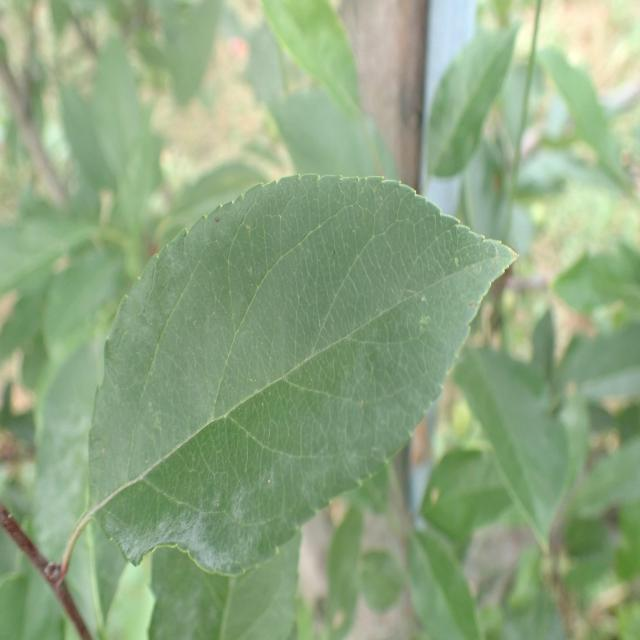Powdery_mildew: (46, 168, 524, 585)
